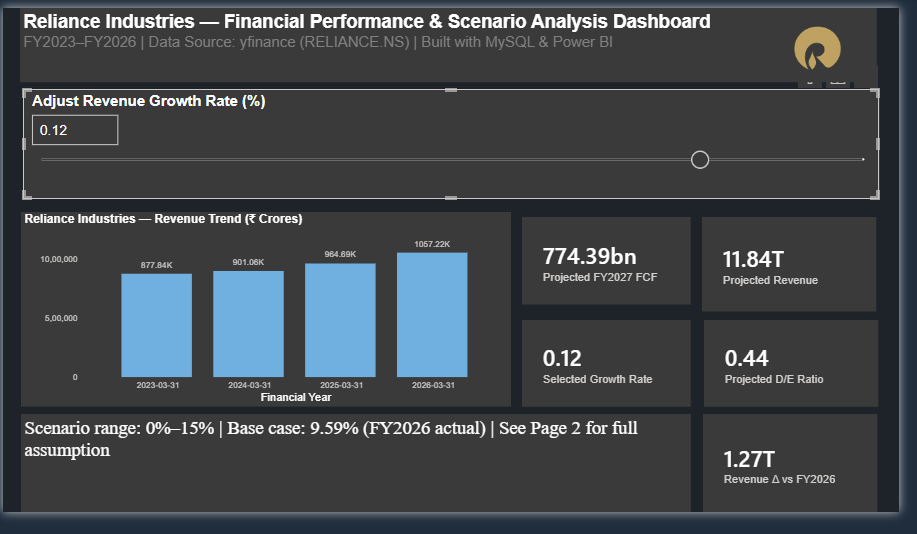

The page's visual inventory and layout, read from the dashboard file:
{"tool":"powerbi","page":{"name":"What if analysis dashboard","canvas":[1280,720],"ordinal":0},"visuals":[{"type":"slicer","fields":{"Values":["Revenue Growth Rate .Revenue Growth Rate "]},"box":[24.8,115.6,1222.2,156.9],"z":0},{"type":"cardVisual","fields":{"Data":["Revenue Growth Rate .Revenue Growth Rate  Value"]},"box":[741.8,445.1,241.5,123.6],"z":1000},{"type":"cardVisual","fields":{"Data":["reliance_analysis reliance_financial_summary.Projected Revenue"]},"box":[999.3,298.2,248.7,135.3],"z":2000},{"type":"cardVisual","fields":{"Data":["Revenue Growth Rate .Projected Free Cash Flow"]},"box":[741.8,298.2,241.5,125.1],"z":3000},{"type":"cardVisual","fields":{"Data":["Revenue Growth Rate .Projected Debt to Equity"]},"box":[1000.7,445.1,248.7,123.6],"z":4000},{"type":"cardVisual","fields":{"Data":["reliance_analysis reliance_financial_summary.Revenue Change VS Actual"]},"box":[1000.6,579.4,249.1,140.4],"z":5000},{"type":"clusteredColumnChart","title":"Reliance Industries — Revenue Trend (₹ Crores)","fields":{"Category":["reliance_analysis reliance_powerbi_data.Year"],"Y":["Sum(reliance_analysis reliance_powerbi_data.Total_Revenue_Crores)"]},"box":[26.2,290.9,699.6,277.8],"z":6000},{"type":"textbox","box":[26.2,579.4,956.6,140.4],"z":7000},{"type":"textbox","box":[24.3,0,1224.2,105.8],"z":8000},{"type":"image","box":[1077.7,0,173.4,115.6],"z":10000}]}

Visuals, with their boxes on the page's 1280x720 design canvas (x1, y1, x2, y2). These are canvas units, not pixel positions in the 917x534 screenshot, which may show the page scaled, cropped or inside an application window:
slicer - Revenue Growth Rate .Revenue Growth Rate : pyautogui.locateOnScreen(25, 116, 1247, 272)
cardVisual - Revenue Growth Rate .Revenue Growth Rate  Value: pyautogui.locateOnScreen(742, 445, 983, 569)
cardVisual - reliance_analysis reliance_financial_summary.Projected Revenue: pyautogui.locateOnScreen(999, 298, 1248, 434)
cardVisual - Revenue Growth Rate .Projected Free Cash Flow: pyautogui.locateOnScreen(742, 298, 983, 423)
cardVisual - Revenue Growth Rate .Projected Debt to Equity: pyautogui.locateOnScreen(1001, 445, 1249, 569)
cardVisual - reliance_analysis reliance_financial_summary.Revenue Change VS Actual: pyautogui.locateOnScreen(1001, 579, 1250, 720)
"Reliance Industries — Revenue Trend (₹ Crores)" clusteredColumnChart: pyautogui.locateOnScreen(26, 291, 726, 569)
textbox: pyautogui.locateOnScreen(26, 579, 983, 720)
textbox: pyautogui.locateOnScreen(24, 0, 1248, 106)
image: pyautogui.locateOnScreen(1078, 0, 1251, 116)
